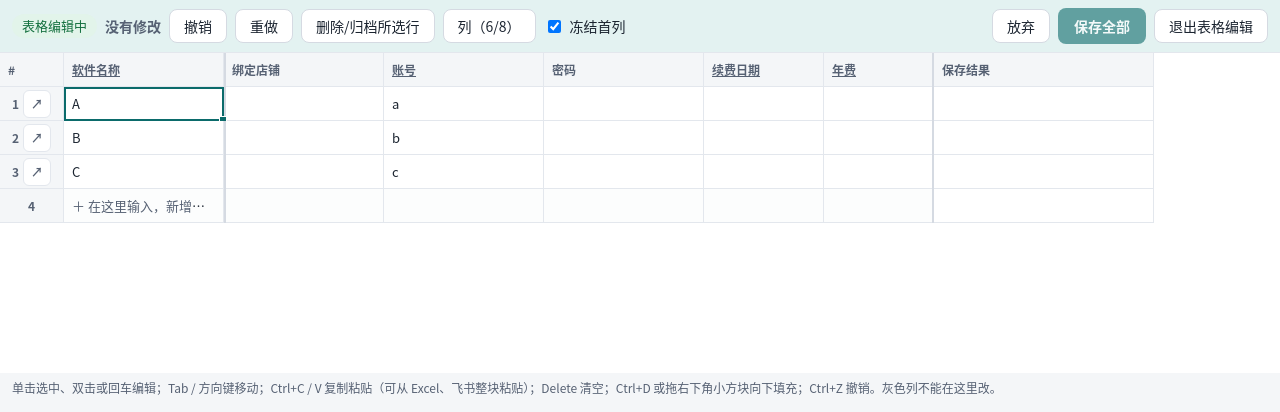
资料表格编辑网格 › 拖拽小方块向下填充
Press the mouse on the cell "A" at (144, 104), box [64, 87, 224, 121]
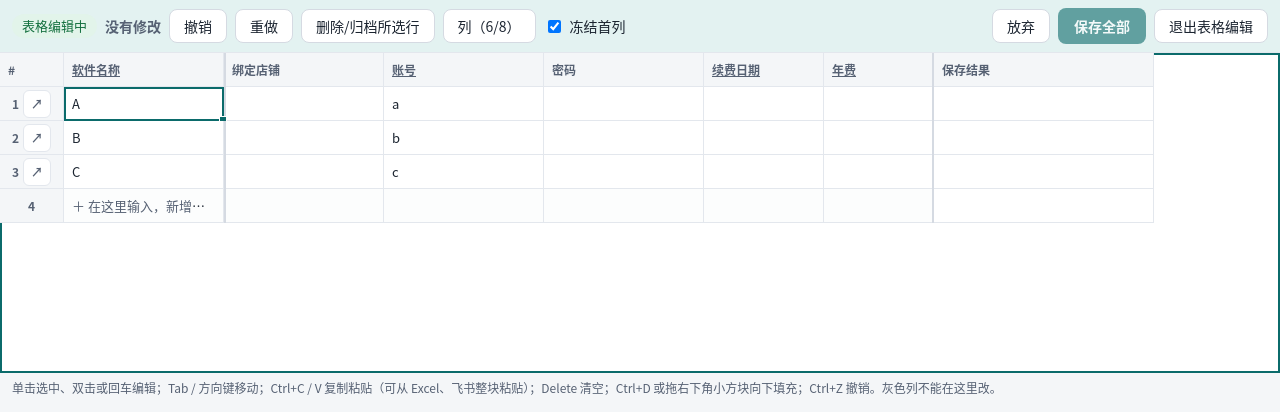
Press the mouse on the element with class "fill-handle" at (223, 120), box [219, 116, 227, 124]
Hover over the cell "C" at (144, 172), box [64, 155, 224, 189]
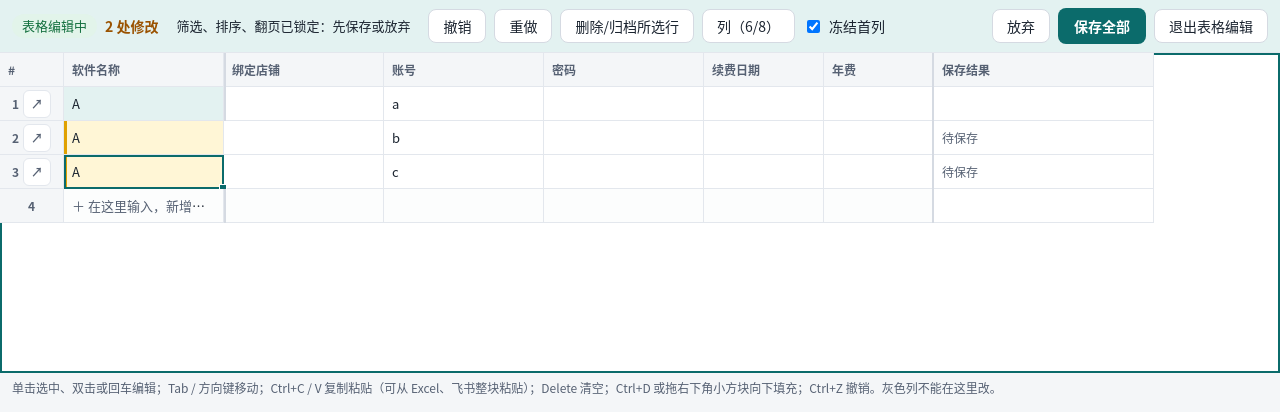
Expected: the 2nd cell "A" is shown, [64, 121, 224, 155]
